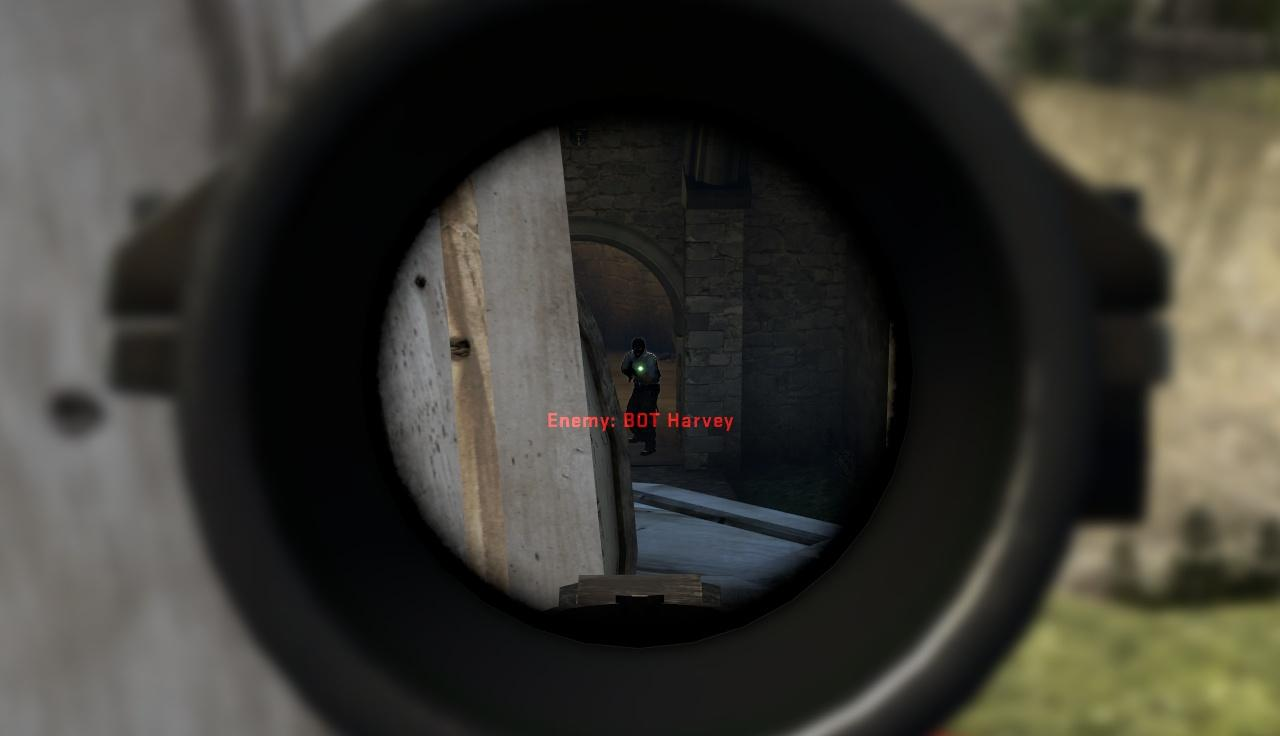tt: (621, 339, 659, 455)
tthead: (632, 339, 646, 356)
